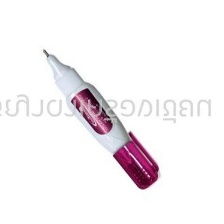correction_fluid: (39, 46, 162, 193)
